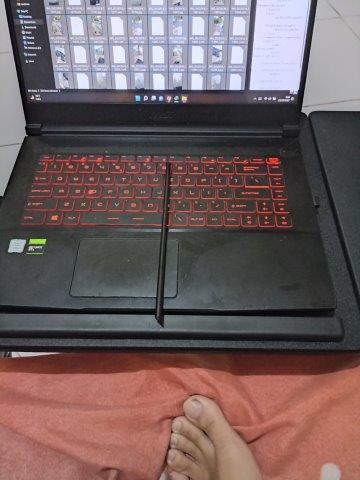sedotan: (156, 163, 172, 319)
